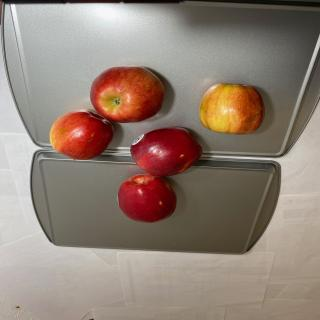Apple: (90, 65, 164, 123), (130, 126, 203, 176), (199, 82, 265, 134), (49, 109, 114, 160), (117, 173, 177, 223)
